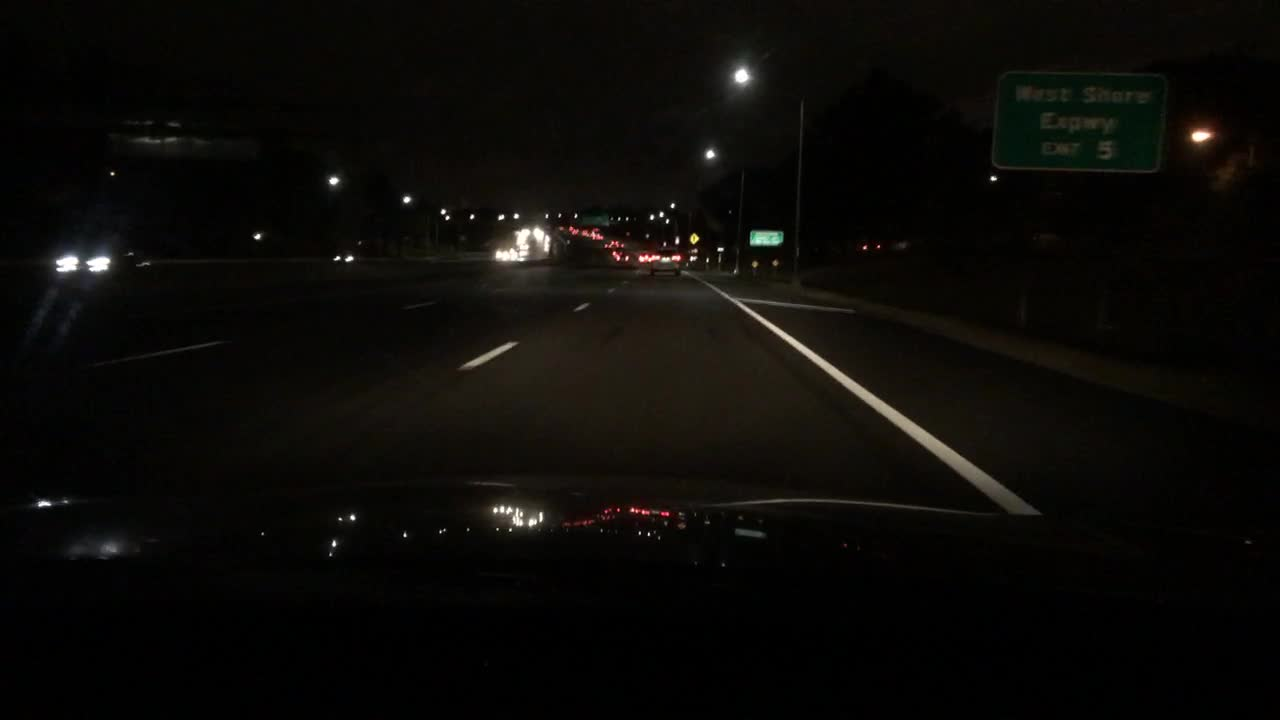car: (53, 234, 155, 284), (646, 248, 683, 275), (329, 248, 364, 269), (490, 246, 514, 264), (508, 242, 532, 259), (634, 248, 651, 268), (607, 245, 624, 262), (516, 224, 529, 238), (589, 230, 604, 242), (565, 223, 577, 236), (513, 239, 526, 251), (511, 232, 526, 242), (582, 227, 594, 239), (571, 227, 583, 238), (607, 239, 619, 250)
traffic sign: (987, 68, 1167, 173), (748, 229, 784, 248), (577, 212, 610, 227), (746, 257, 760, 270), (686, 232, 700, 244), (713, 243, 727, 255), (769, 255, 779, 267)
